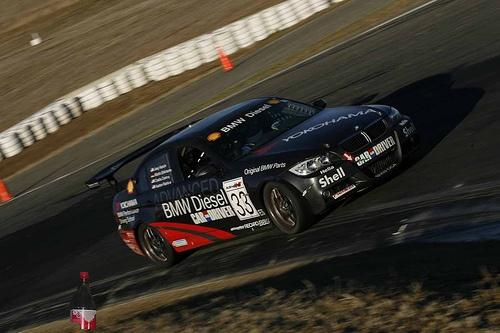tampered: (71, 273, 96, 329)
